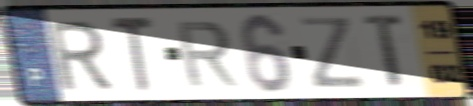6: (239, 11, 294, 96)
R: (46, 18, 115, 93), (172, 19, 241, 89)
T: (108, 14, 157, 95), (362, 12, 406, 93)
Z: (297, 15, 369, 91)
